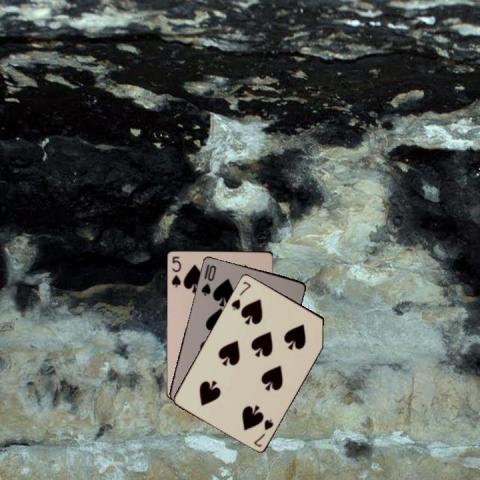10s: (198, 262, 217, 297)
5s: (168, 253, 182, 289)
7s: (228, 278, 252, 311), (250, 415, 274, 448)
